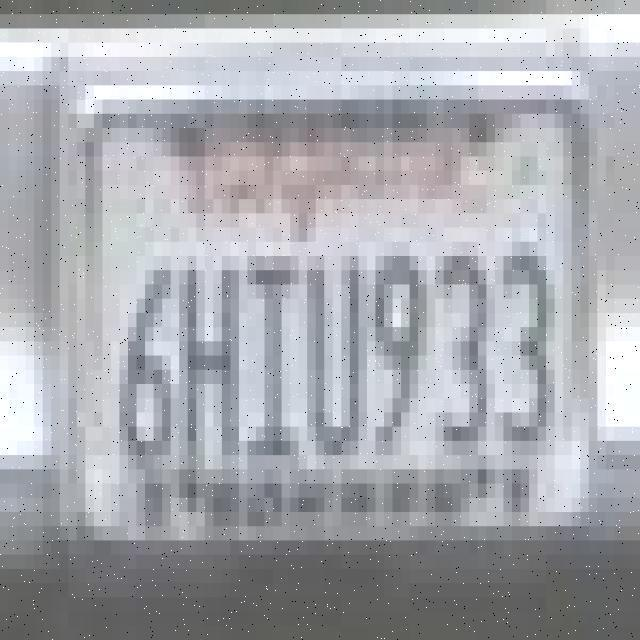LicensePlate: (66, 69, 605, 544)
